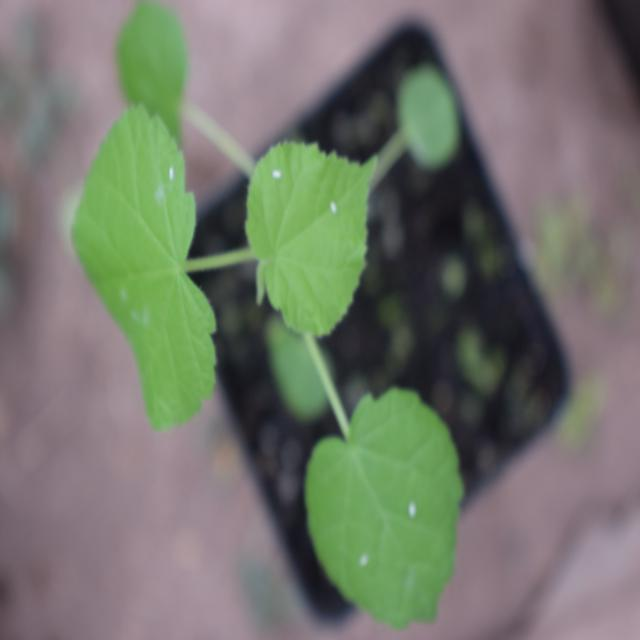abutilon theophrasti: (80, 94, 474, 599)
